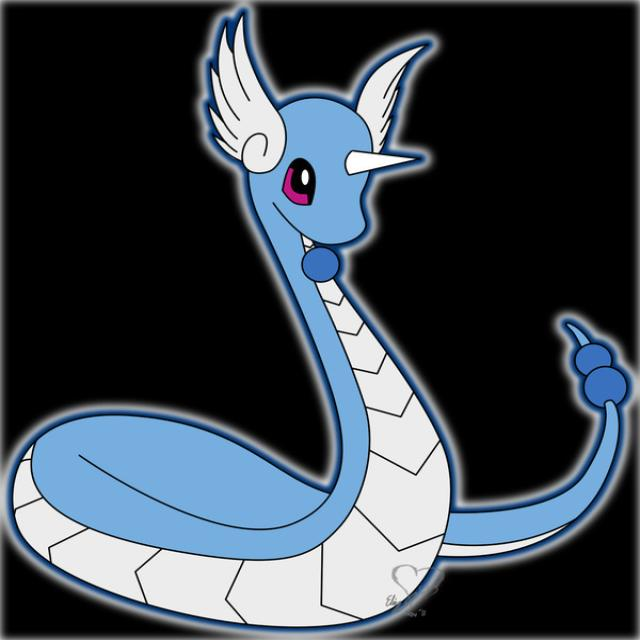Dragonair: (30, 10, 478, 640)
